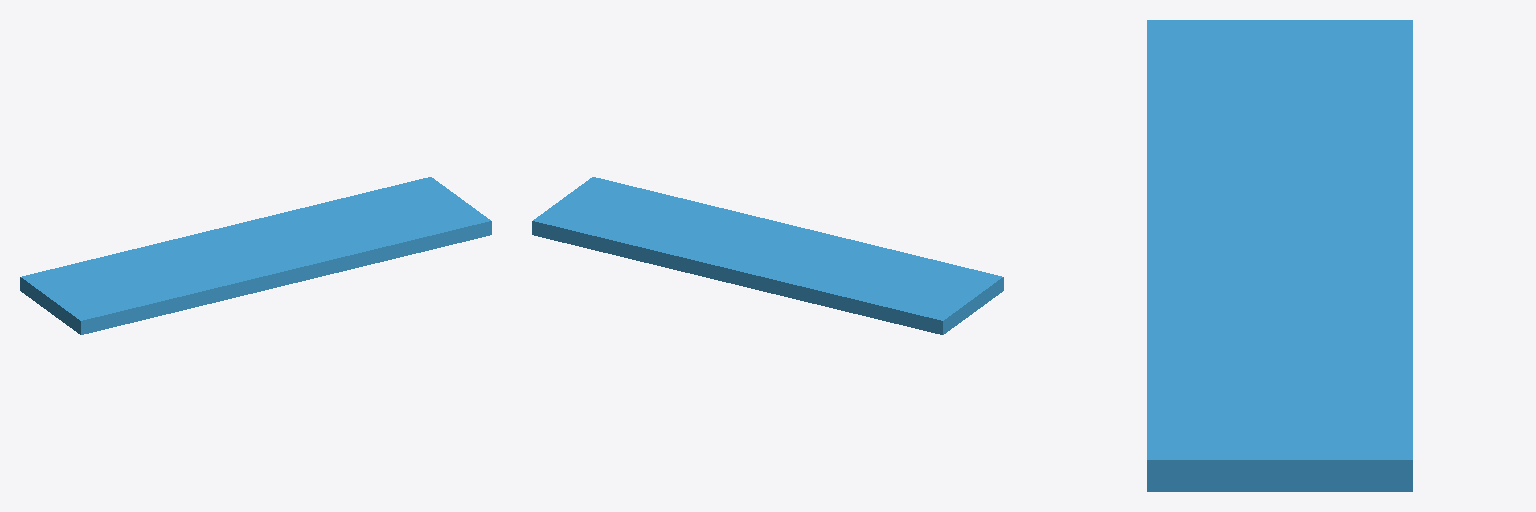
URDF robot description (cylinder_84):
    
    <robot name="cylinder_84">
        <link name="cylinder_84">    
            <fem>
                <origin rpy="0.0 0.0 0.0" xyz="0 0 0" />
                <density value="100" />
                <youngs value="1053"/>
                <poissons value="0.3" />
                <damping value="0.0" />
                <attachDistance value="0.01" />
                <tetmesh filename="[local-path]/sim_data/Custom/Custom_mesh/multi_cylinder_1kPa/cylinder_84.tet" />
                <scale value="0.5"/>
            </fem>
        </link>

        <link name="fix_frame">
            <visual>
                <origin xyz="0.0 0.0 10.077868757802284"/>
                <geometry>
                    <box size="0.15 0.03822828494052474 0.005"/>
                </geometry>
            </visual>
            <collision>
                <origin xyz="0.0 0.0 0.07786875780228383"/>
                <geometry>
                    <box size="0.15 0.03822828494052474 0.005"/>
                </geometry>
            </collision>
            <inertial>
                <mass value="500000"/>
                <inertia ixx="0.05" ixy="0.0" ixz="0.0" iyy="0.05" iyz="0.0" izz="0.05"/>
            </inertial>
        </link>
        
        <joint name = "attach" type = "fixed">
            <origin xyz = "0.0 0.0 0.0" rpy = "0 0 0"/>
            <parent link ="cylinder_84"/>
            <child link = "fix_frame"/>
        </joint>  




    </robot>
    

--- Render facts (derived) ---
Views: 3 orthographic renders of the robot side by side, from view 1: azimuth 30°, elevation 25°; view 2: azimuth 150°, elevation 25°; view 3: azimuth 270°, elevation 25°.
Model cylinder_84 with 2 links and 1 joints (1 fixed), rooted at cylinder_84, posed all joints at 0.
Visible links, largest first — view 1: fix_frame; view 2: fix_frame; view 3: fix_frame.
Link boxes in pixels (x1,y1,x2,y2): fix_frame: [20, 177, 491, 334]; fix_frame: [532, 177, 1003, 334]; fix_frame: [1147, 20, 1412, 491].
Size in the robot's own frame: 0.15 by 0.0382 by 0.005 metres.
Geometry: primitives only (box / cylinder / sphere), no mesh files.
